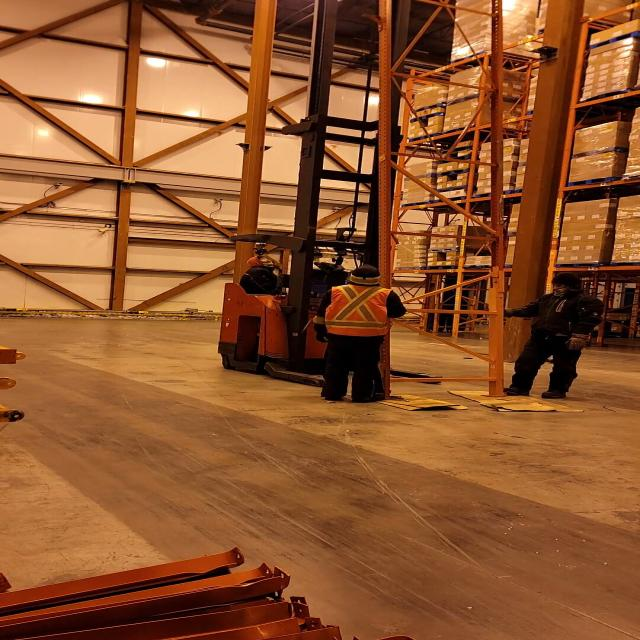forklift: (209, 118, 451, 392)
human: (309, 262, 411, 407), (498, 268, 609, 401), (237, 253, 299, 294)
objectofinterest: (374, 1, 514, 402), (440, 388, 589, 414), (363, 391, 468, 413)
